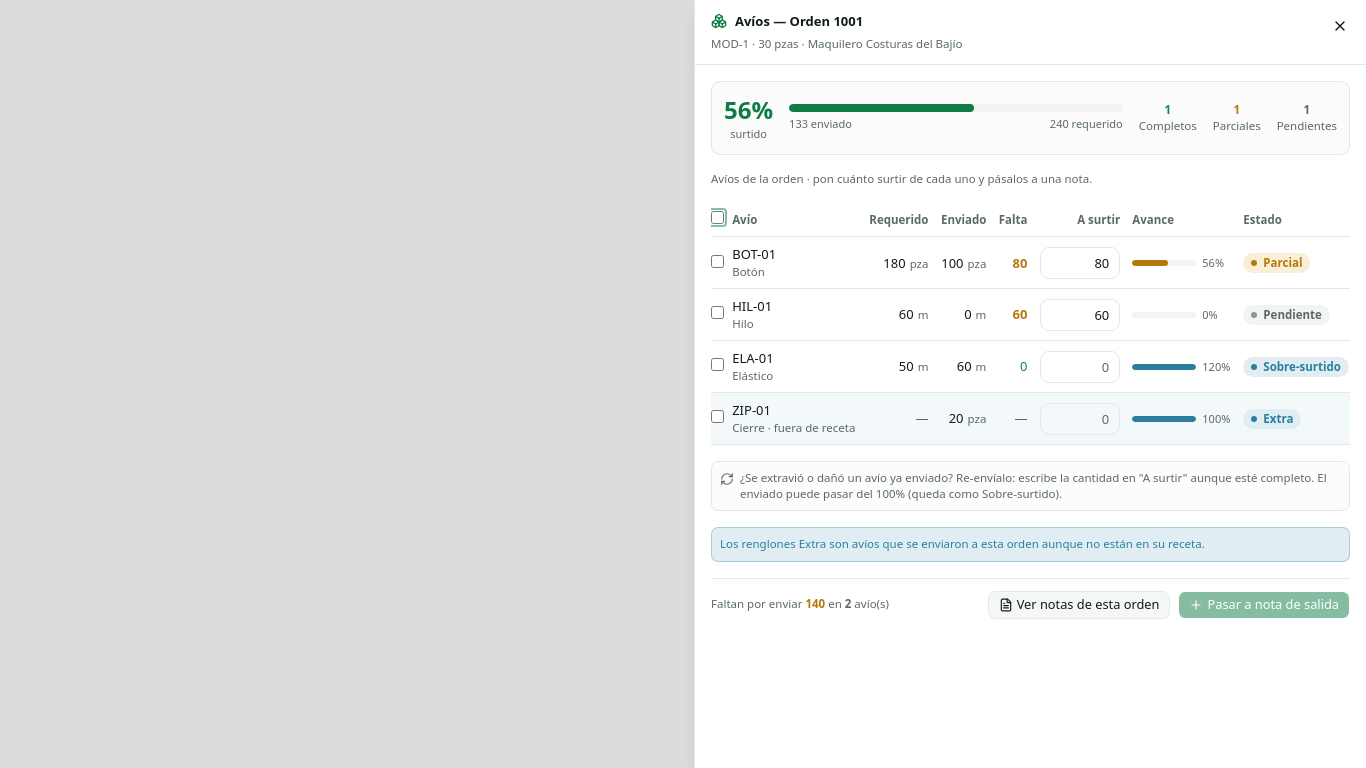
PanelHabilitacionOrden (R6, B13) › "Pasar a nota" arranca deshabilitado y se habilita al marcar un renglón
Expected: the button with test id "hab-pasar-nota" is disabled, [1178,590,1350,618]
Click the checkbox named "Surtir BOT-01": (718, 261) [711,254,724,268]
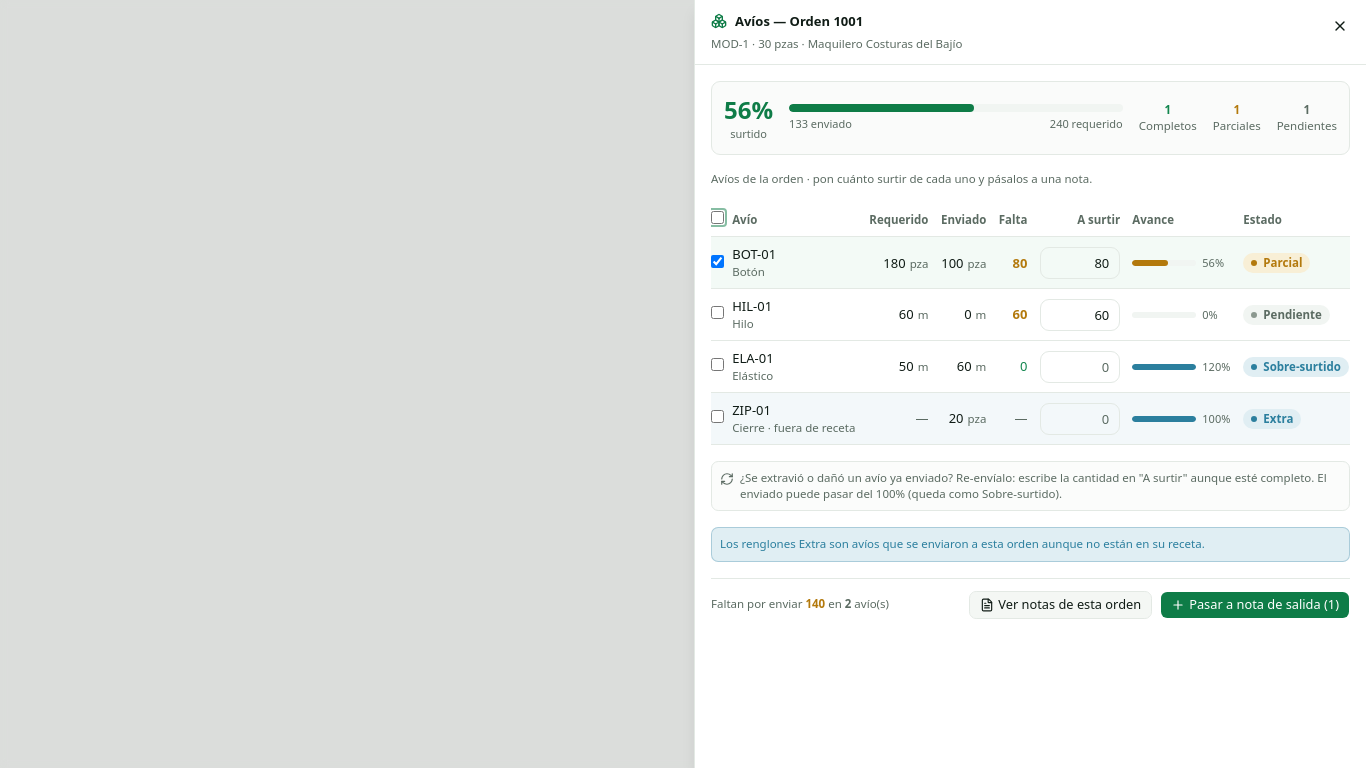
Expected: the button with test id "hab-pasar-nota" is enabled, [1160,590,1350,618]
Expected: the button with test id "hab-pasar-nota" shows "(1)", [1160,590,1350,618]
